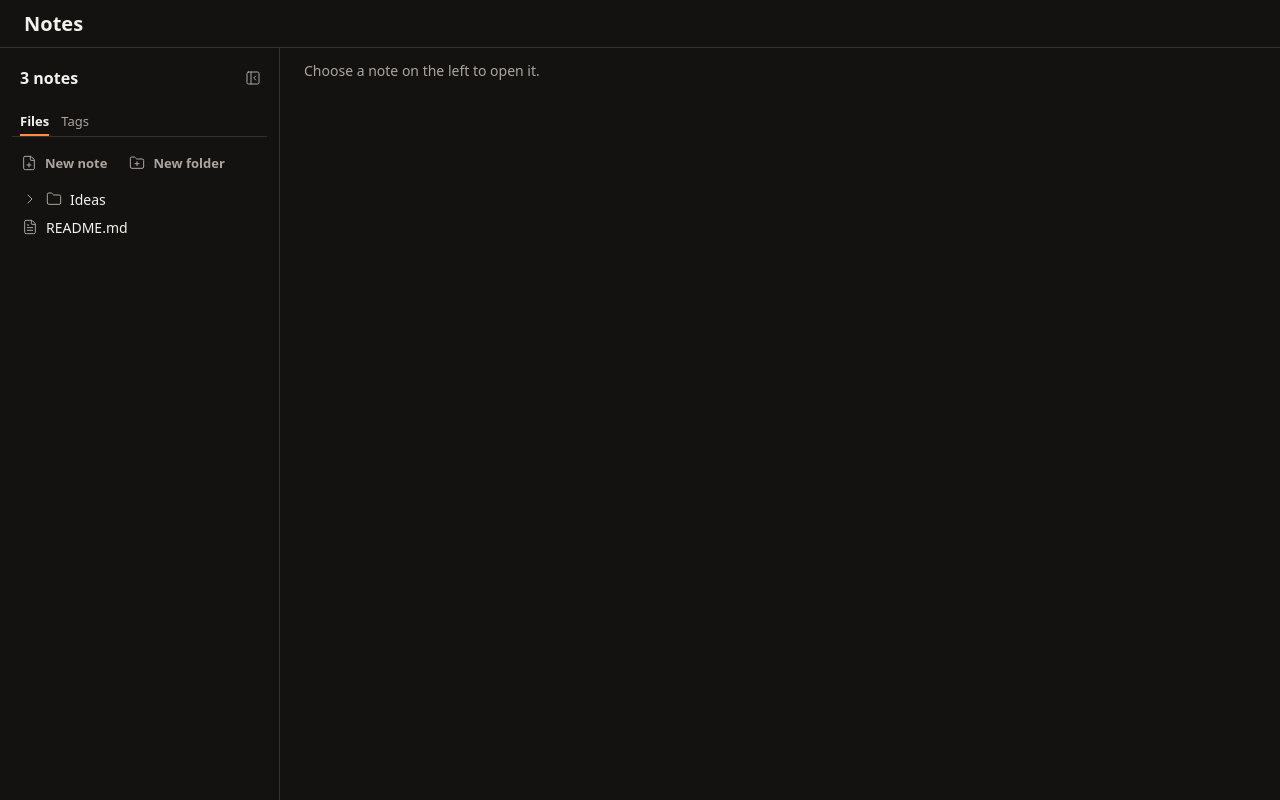
Test: the notes are counted and shown as a tree, folders first and closed
The width and height of the screenshot is (1280, 800).
Check: the text "3 notes" is shown, box [20,67,78,89]
Check: the link "Plan.md" is not shown
Click the button "Ideas".
click(126, 199)  # box [12,185,239,213]
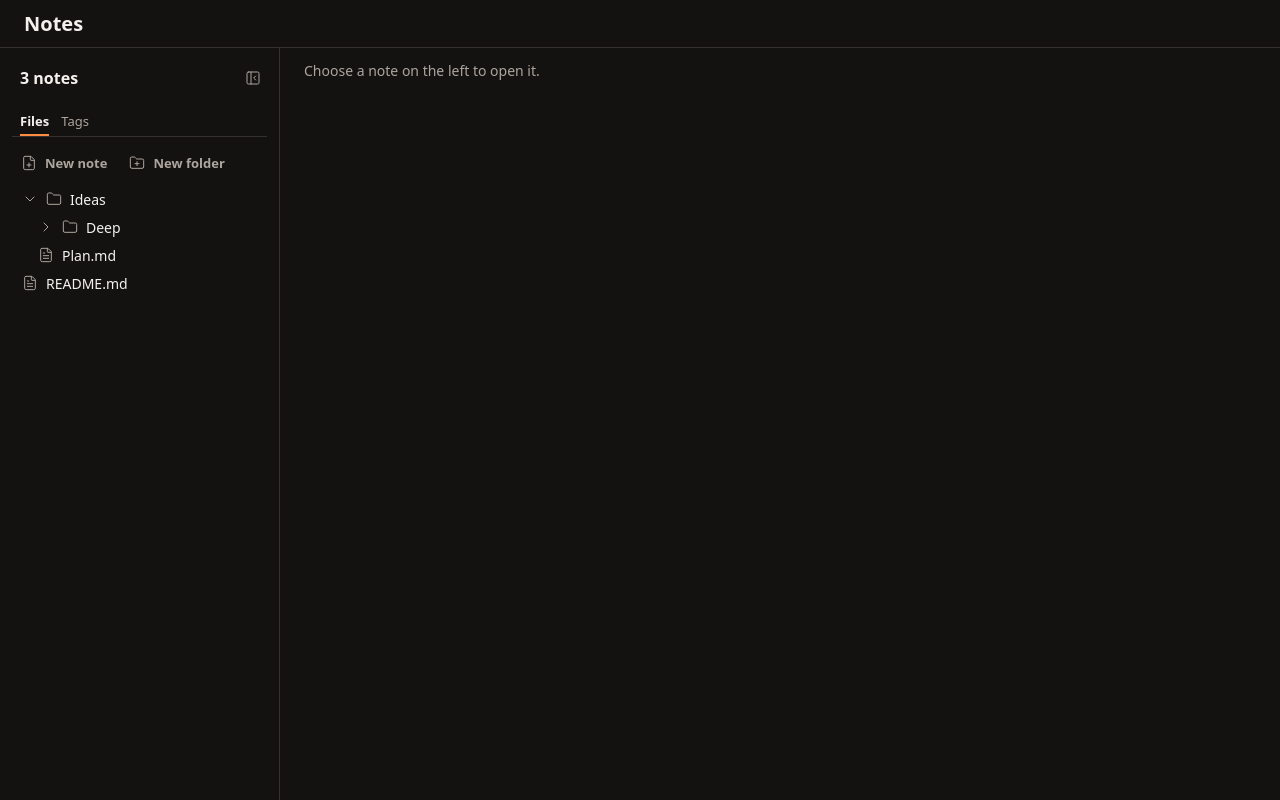
Check: the text "Choose a note on the left to open it." is shown, box [304,60,540,81]
Check: the button "Deep" is shown, box [28,213,239,241]
